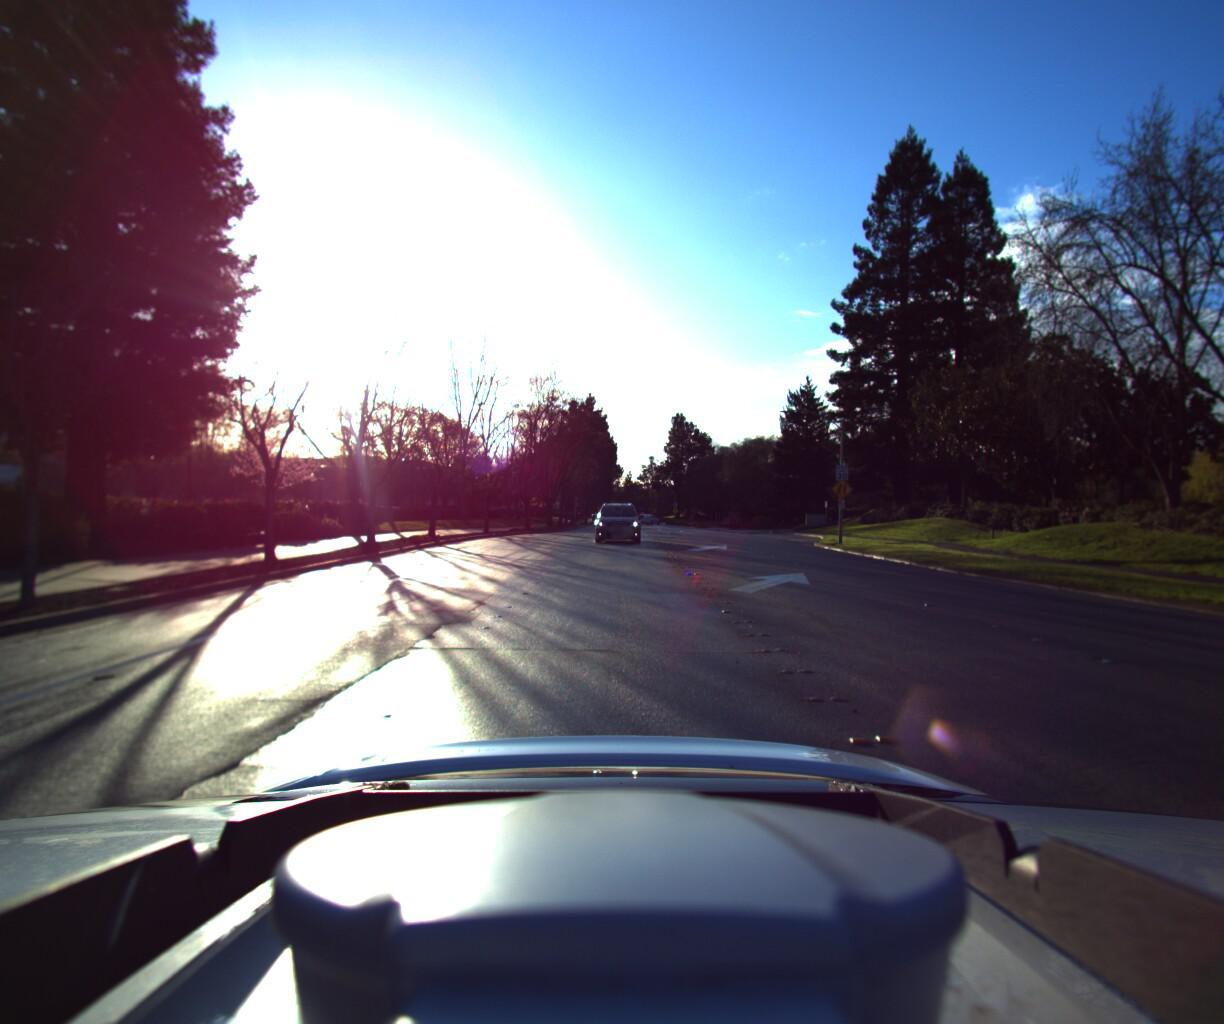car: (591, 498, 638, 542)
